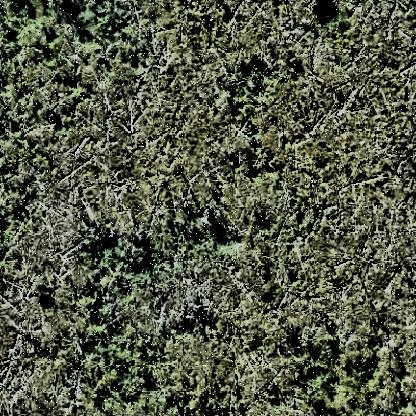tree-top: (70, 3, 96, 24), (212, 231, 235, 252), (40, 45, 58, 66), (143, 257, 164, 275), (247, 166, 261, 178)
